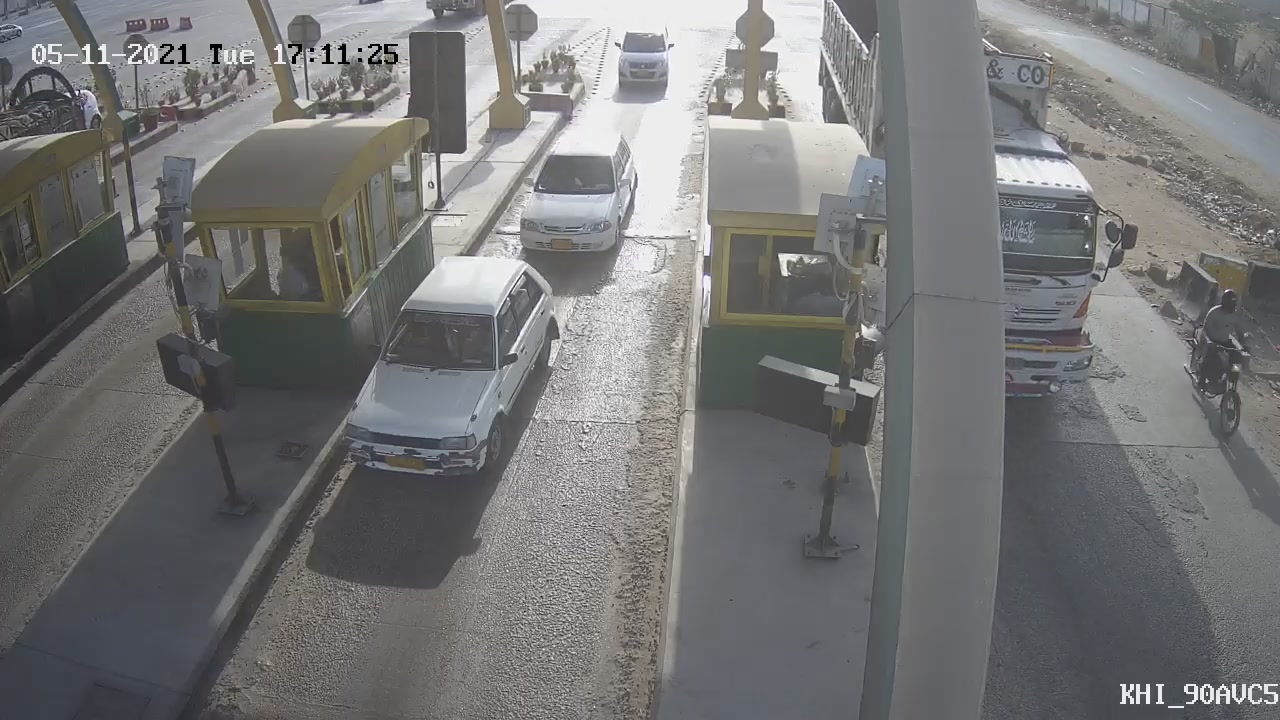F1: (322, 234, 579, 499), (496, 112, 655, 278)
